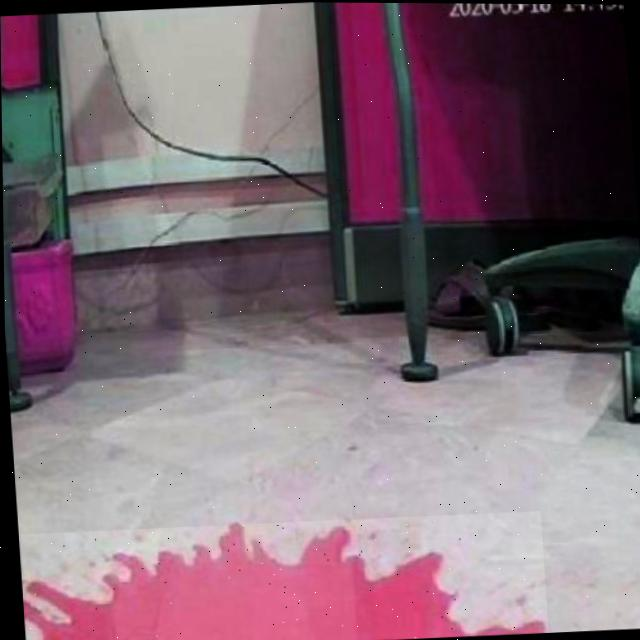spillage: (21, 525, 467, 640), (468, 624, 546, 635)
